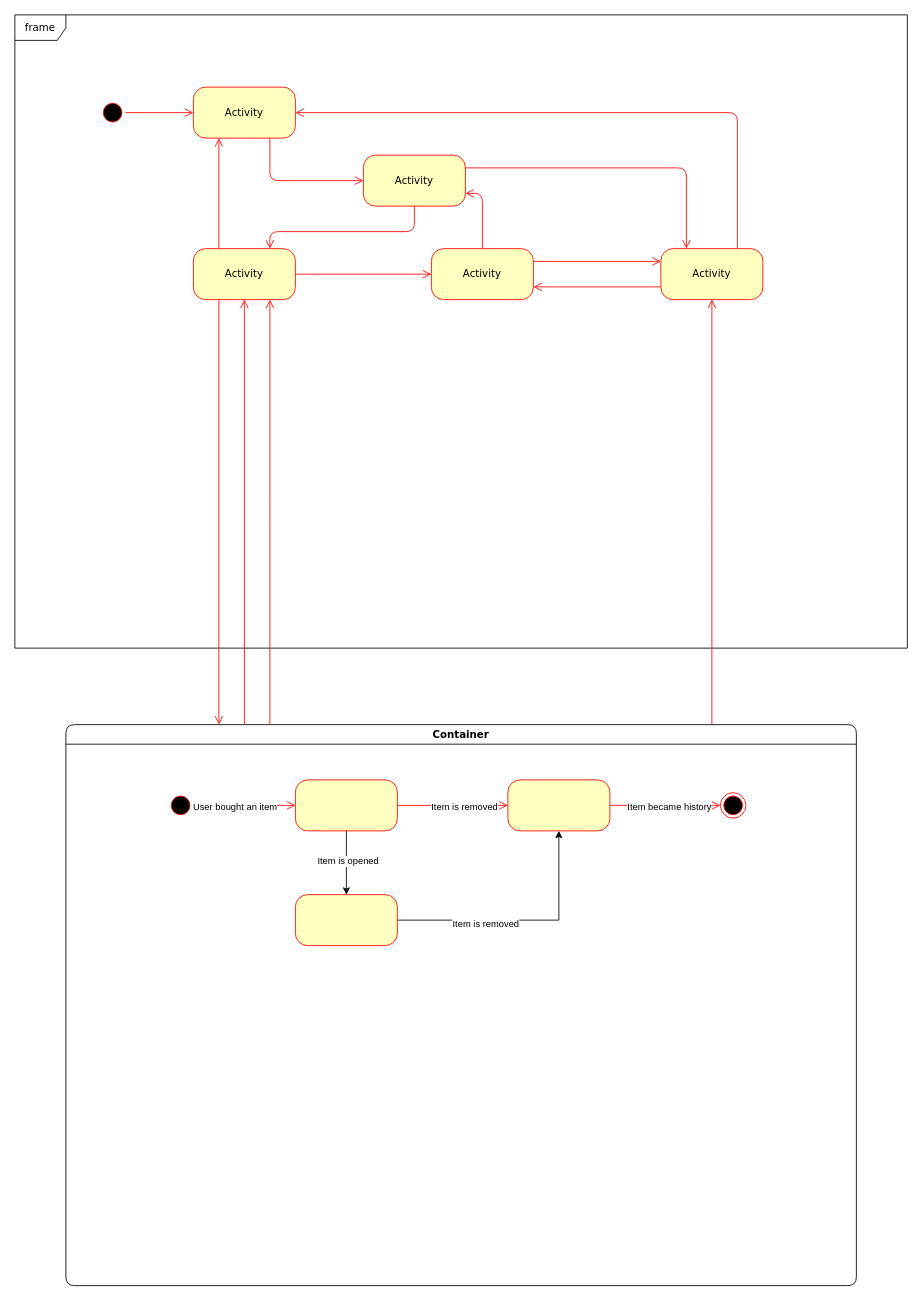
Image size: 922x1301. Some labels were removed from this diagram. The centre of each missing label's shape, as x and y in pixels:
Discarded: [558,805]
Opened: [346,920]
Unopened: [346,805]
